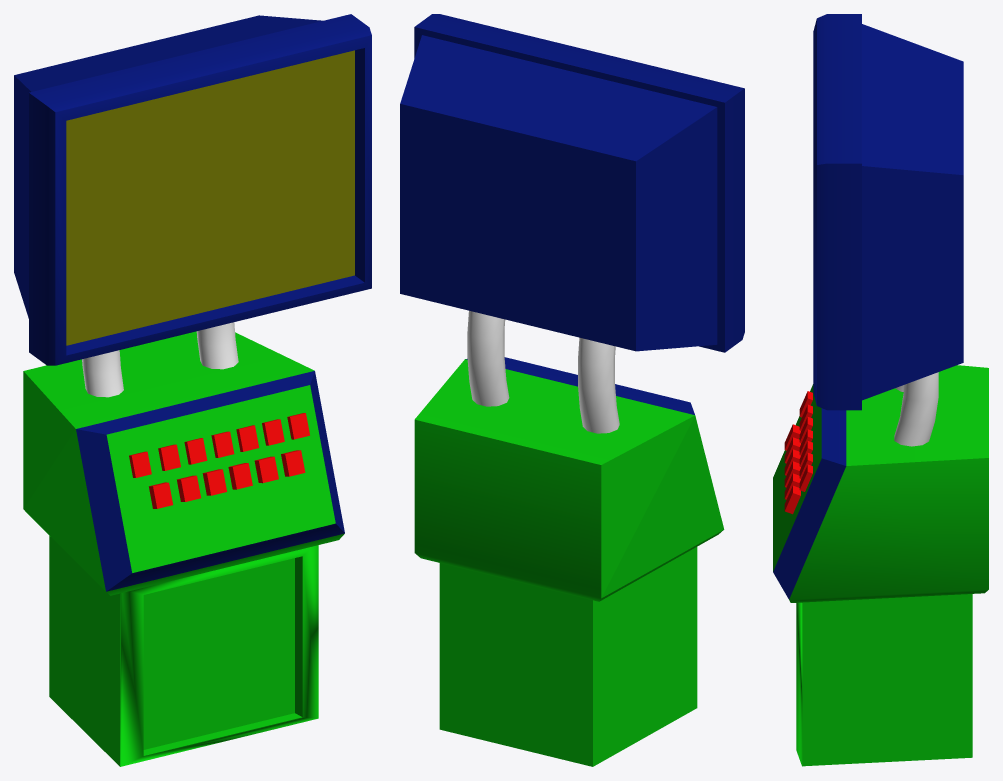
File: pc_lab.fbx
3 renders of one model, left to right at view 1: azimuth 30°, elevation 25°; view 2: azimuth 150°, elevation 25°; view 3: azimuth 270°, elevation 25°, orthographic. The views are drawn at different scales.
Parts seen in each view (by area): view 1: Box003; view 2: Box003; view 3: Box003.
Part boxes in pixels (x1,y1,x2,y2): Box003: (14,14,371,766); Box003: (400,14,744,766); Box003: (773,14,988,766).
Size of the model in its own units: 71.22 by 141 by 43.47.
